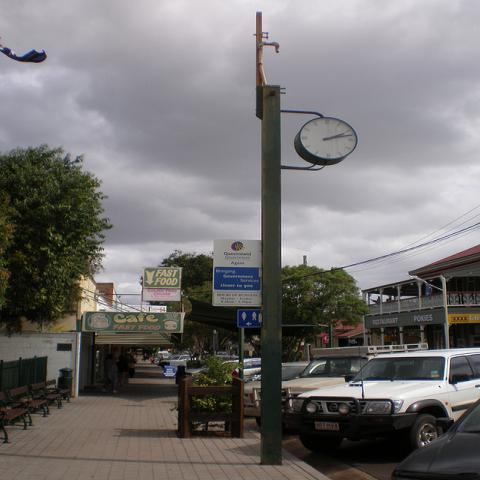car: (288, 346, 479, 456), (392, 397, 480, 478), (281, 358, 368, 426), (242, 360, 313, 416), (182, 362, 214, 376), (158, 355, 190, 368), (221, 360, 239, 382), (244, 357, 262, 377), (158, 351, 172, 359)
